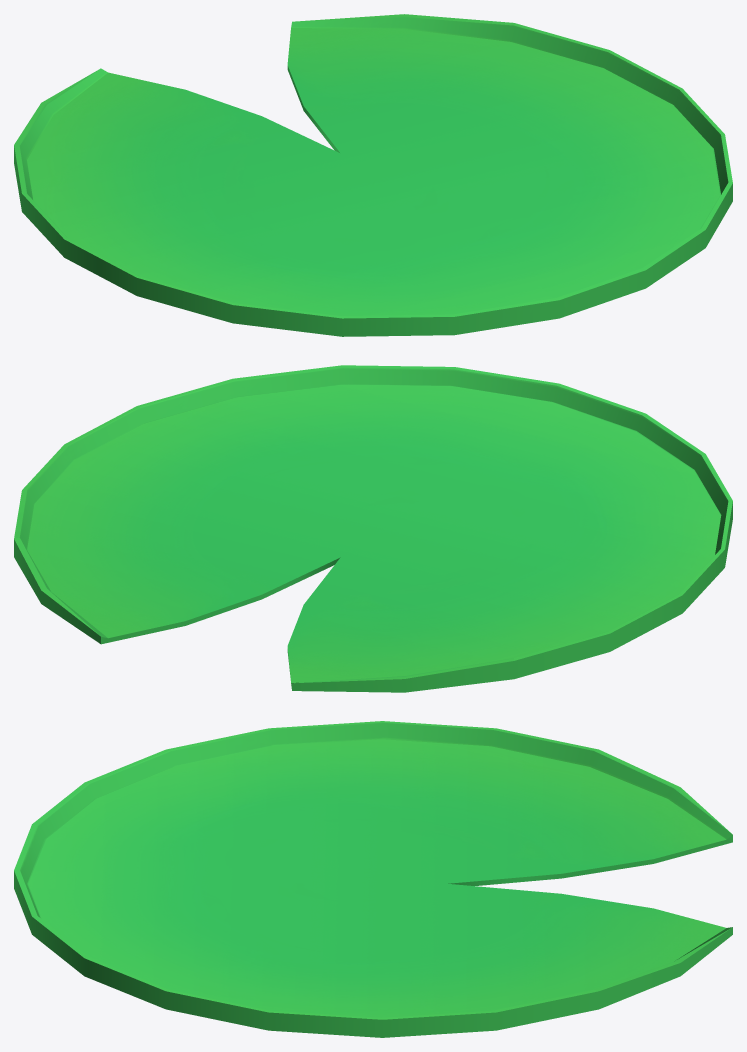
Rendered from env_lilypad_export_01.fbx.
3 views of the same model, one above another, from view 1: azimuth 30°, elevation 25°; view 2: azimuth 150°, elevation 25°; view 3: azimuth 270°, elevation 25° (orthographic).
Parts seen in each view (by area): view 1: pCylinder1; view 2: pCylinder1; view 3: pCylinder1.
Part boxes in pixels (<box>): pCylinder1: <box>14,14,732,336</box>; pCylinder1: <box>14,365,732,692</box>; pCylinder1: <box>14,721,732,1037</box>.
Size of the model in its own units: 19.89 by 0.5673 by 20.23.
Materials: 1 (1 with a texture image).
